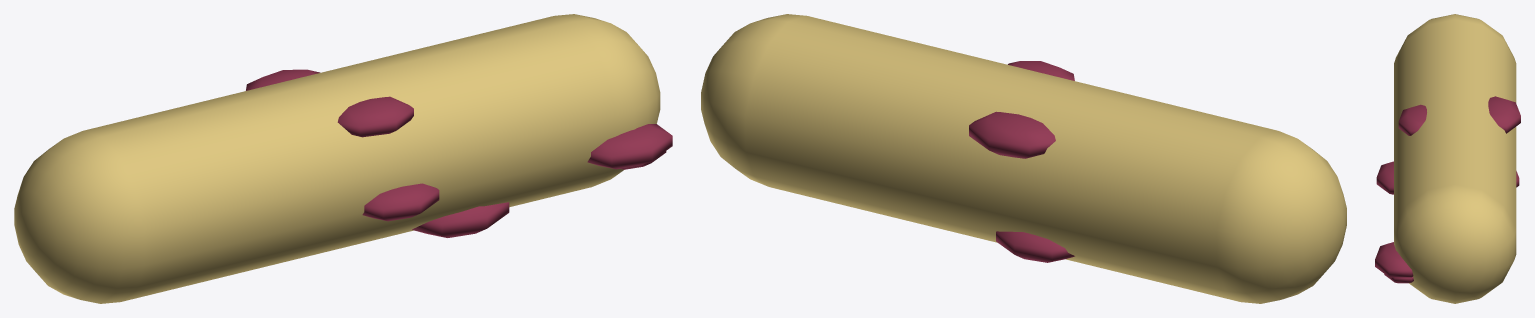
The model's file is vaina-frejol.glb.
The picture shows the model from 3 angles, left to right: view 1: azimuth 30°, elevation 25°; view 2: azimuth 150°, elevation 25°; view 3: azimuth 270°, elevation 25°; orthographic projection. The views are drawn at different scales.
Visible parts, largest first — view 1: cuerpo, mota4, mota5, mota6, mota0, mota3; view 2: cuerpo, mota3, mota2, mota5; view 3: cuerpo, mota4, mota3, mota5, mota6, mota1.
Boxes of the visible parts, left/top/right/bottom form: cuerpo: left=14, top=14, right=660, bottom=303; mota4: left=587, top=124, right=672, bottom=169; mota5: left=337, top=96, right=413, bottom=137; mota6: left=362, top=183, right=439, bottom=221; mota0: left=412, top=202, right=509, bottom=237; mota3: left=246, top=69, right=320, bottom=90; cuerpo: left=701, top=14, right=1346, bottom=303; mota3: left=969, top=111, right=1055, bottom=158; mota2: left=996, top=231, right=1074, bottom=262; mota5: left=1008, top=61, right=1074, bottom=80; cuerpo: left=1394, top=14, right=1516, bottom=303; mota4: left=1375, top=242, right=1413, bottom=277; mota3: left=1488, top=96, right=1520, bottom=133; mota5: left=1398, top=104, right=1426, bottom=135; mota6: left=1376, top=161, right=1393, bottom=194; mota1: left=1384, top=274, right=1413, bottom=283.
Bounding box in the file's own units: 0.82 × 0.2008 × 0.2318.
